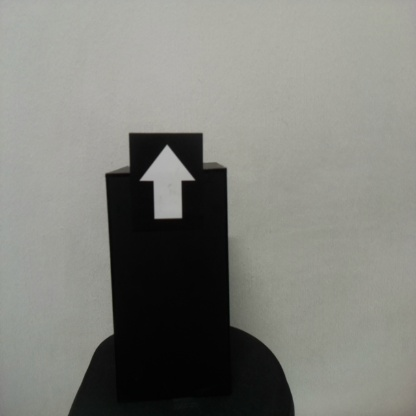id_1: (129, 133, 205, 238)
